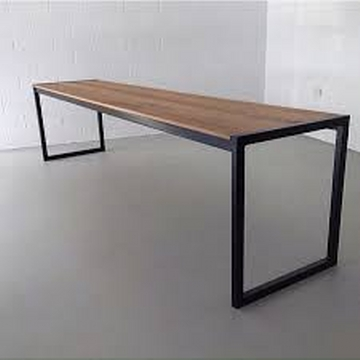meja: (32, 79, 351, 309)
